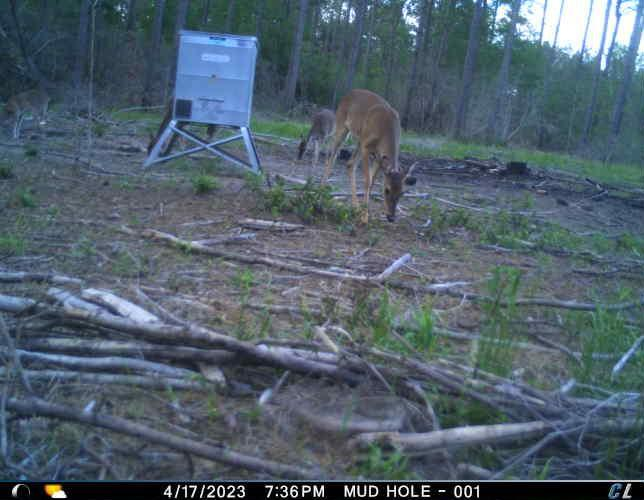Deer: (320, 84, 419, 226), (0, 86, 51, 144), (295, 104, 334, 164)
